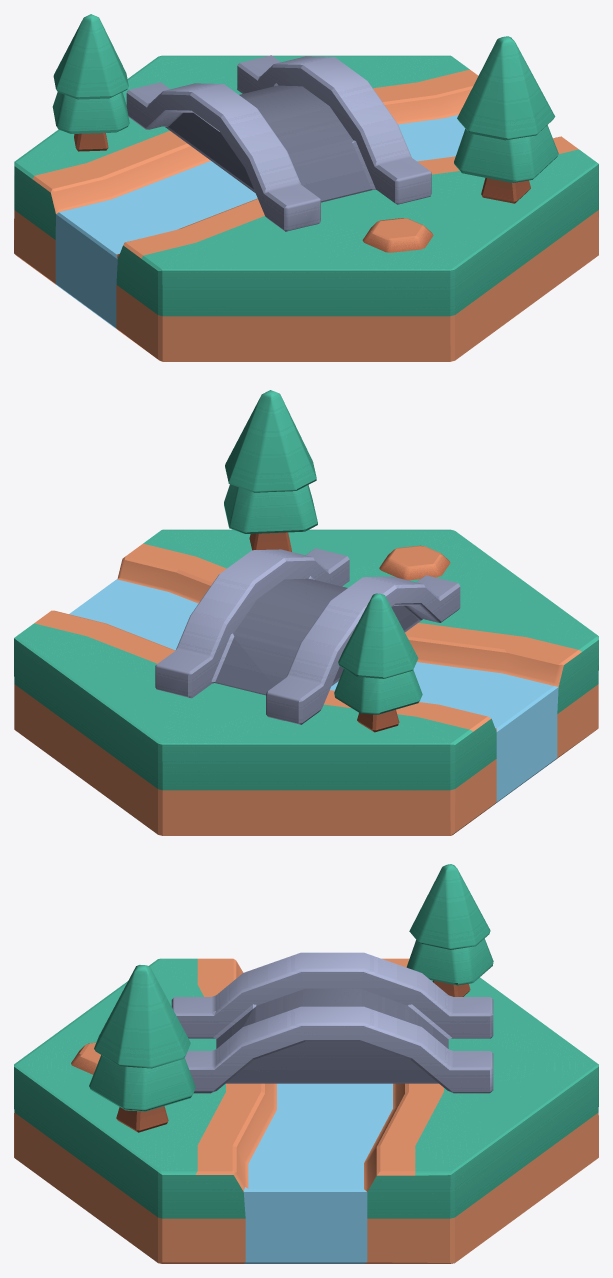
Rendered from kenney-hexagon__bridge.glb.
3 renders of one model, top to bottom at view 1: azimuth 30°, elevation 25°; view 2: azimuth 150°, elevation 25°; view 3: azimuth 270°, elevation 25°, orthographic.
Parts seen in each view (by area): view 1: bridge; view 2: bridge; view 3: bridge.
Part boxes in pixels (left/top/right/bottom): bridge: left=14, top=14, right=598, bottom=361; bridge: left=14, top=390, right=598, bottom=835; bridge: left=14, top=864, right=598, bottom=1263.
Size of the model in its own units: 1 by 0.5382 by 1.15.
1 material, 1 textured.
